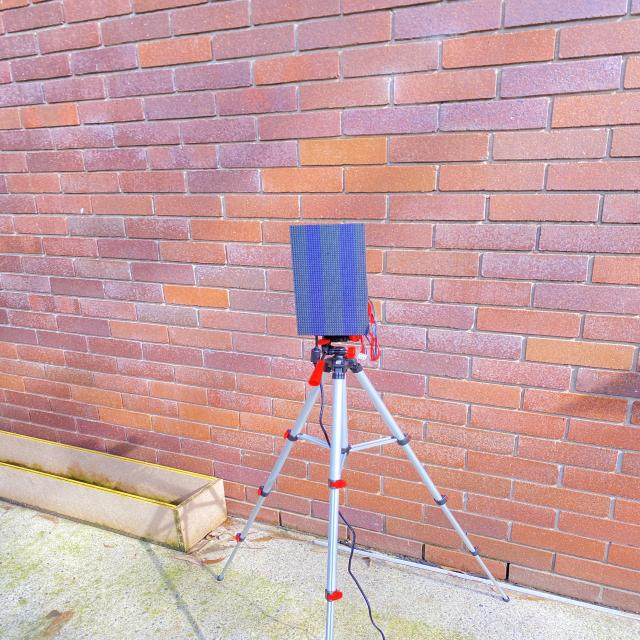matrix: (282, 216, 372, 342)
